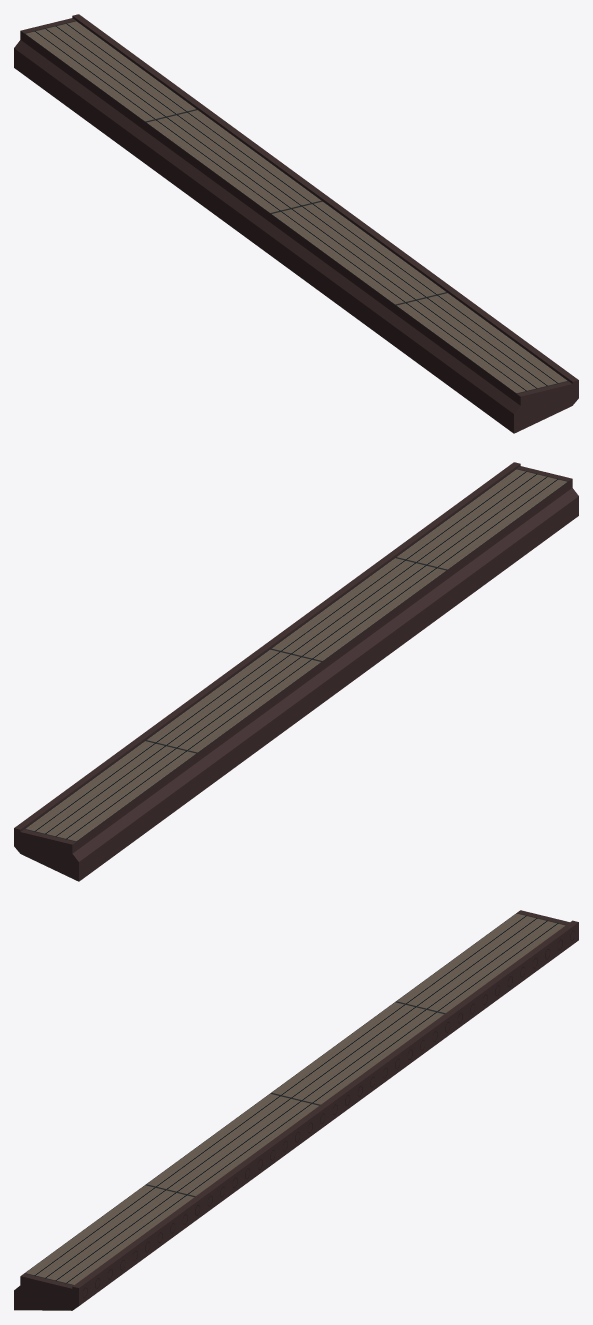
File: SW_ENV_EL_TrackBase_Walkway_Side_20m.fbx
3 renders of one model, top to bottom at view 1: azimuth 30°, elevation 25°; view 2: azimuth 150°, elevation 25°; view 3: azimuth 330°, elevation 25°, orthographic.
Visible parts, largest first — view 1: SW_ENV_EL_TrackBase_Walkway_Side_20m; view 2: SW_ENV_EL_TrackBase_Walkway_Side_20m; view 3: SW_ENV_EL_TrackBase_Walkway_Side_20m.
Boxes of the visible parts, x1,y1,x2,y2 form: SW_ENV_EL_TrackBase_Walkway_Side_20m: [14, 14, 578, 433]; SW_ENV_EL_TrackBase_Walkway_Side_20m: [14, 462, 578, 881]; SW_ENV_EL_TrackBase_Walkway_Side_20m: [14, 910, 578, 1310].
Bounding box in the file's own units: 150 × 83.5 × 2000.
